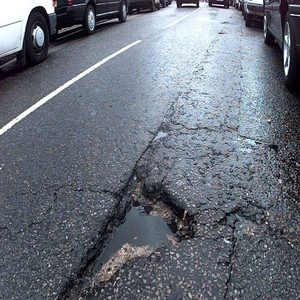pothole: (74, 166, 201, 291)
